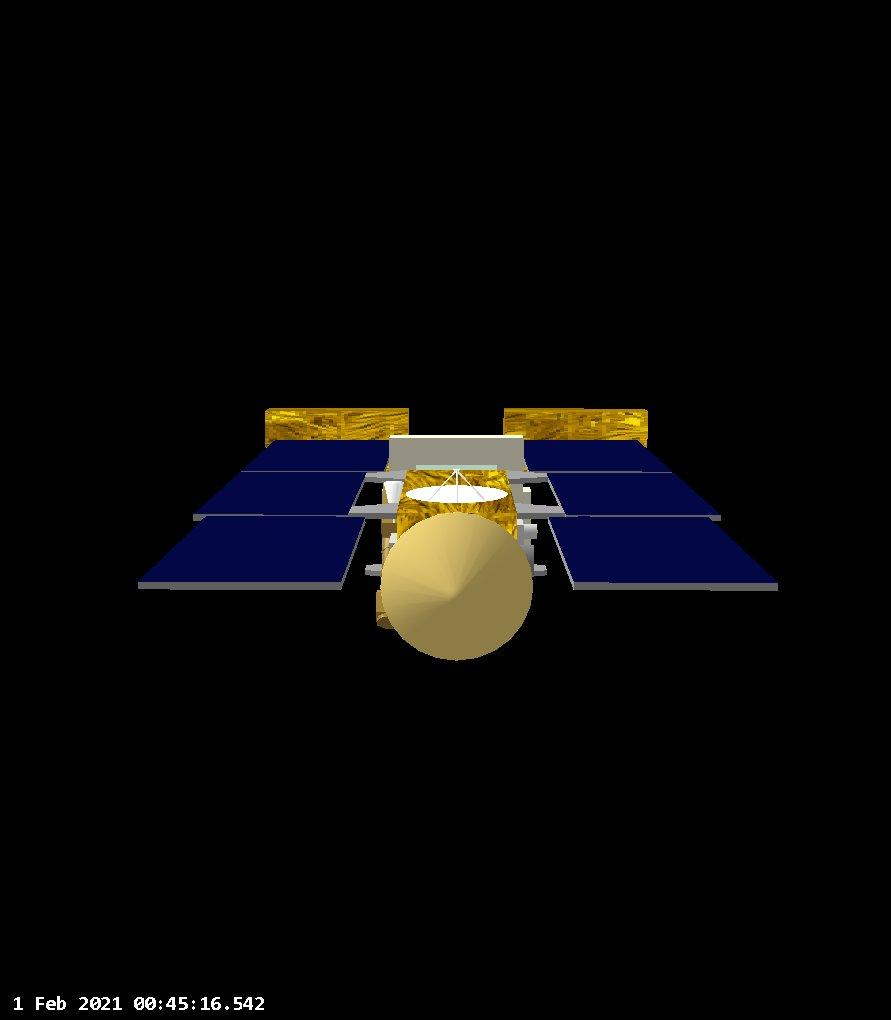antenna: (382, 509, 537, 666), (402, 462, 513, 513)
body: (382, 421, 542, 603)
solar: (519, 434, 786, 599), (141, 432, 393, 597)
